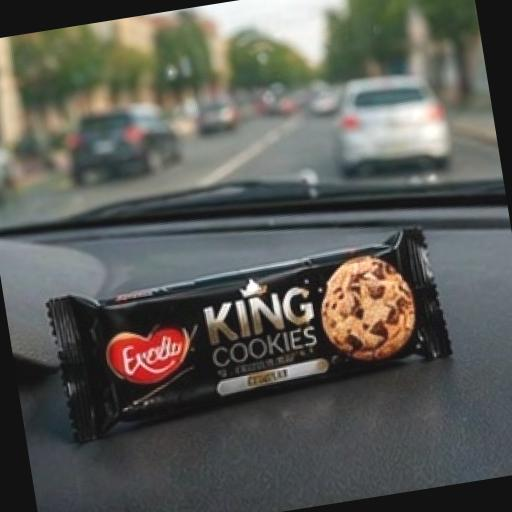king_cooking: (0, 162, 512, 496)
